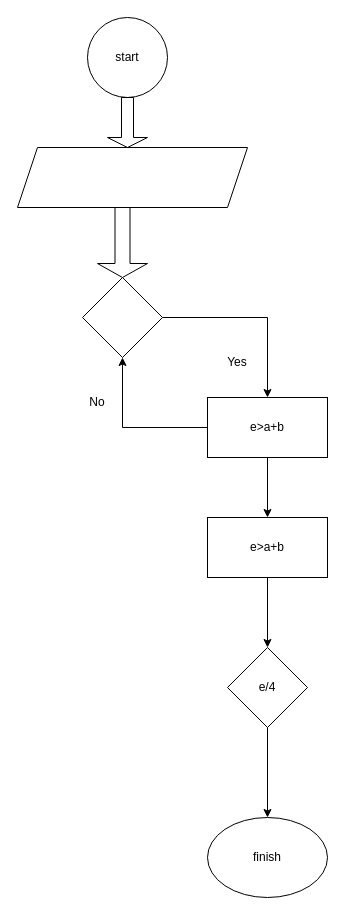
Some shapes in this 345 by 915 pixel diagram are drawn without their labels. The shapes that lost their labels are listed below. From the top down, each one's centre as x and y in pixels, then its label:
the point at 132,177: a, b, c, d
the point at 122,317: e=a+b+c+d
